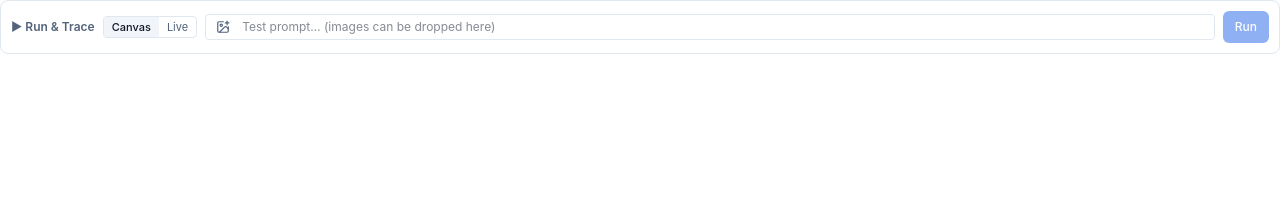
Test: FlowRunDrawer › the answer previewed on the reasoning channel is not duplicated in Thinking
Type "hi" into the field labelled "Test prompt". click: (723, 27)
box: [238,15,1208,39]
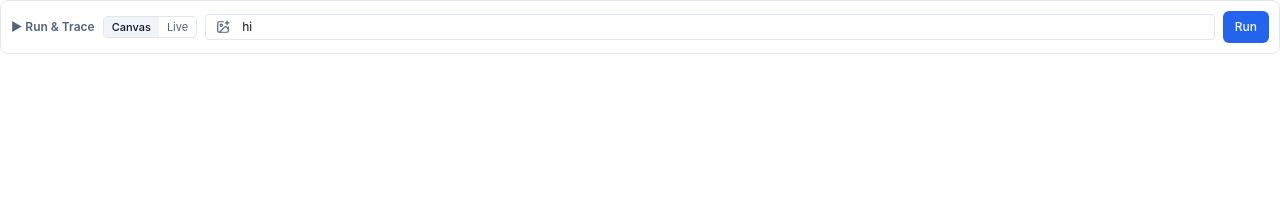
Click the button "Run". click: (1246, 27)
box: [1223,11,1269,43]
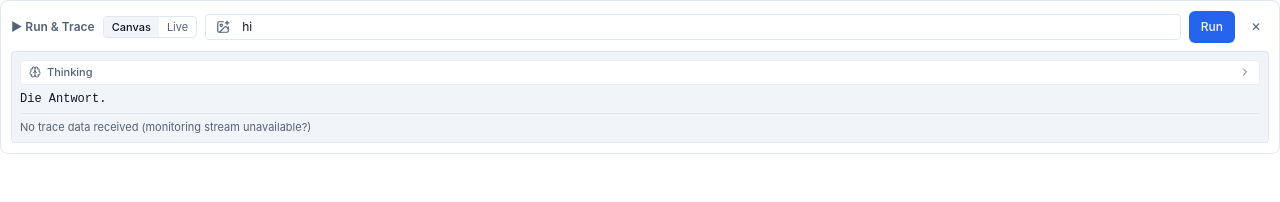
Now the text "Die Antwort." is shown, box [20,92,106,106]
Click the button "Thinking". click: (70, 72)
box: [21,61,1259,84]
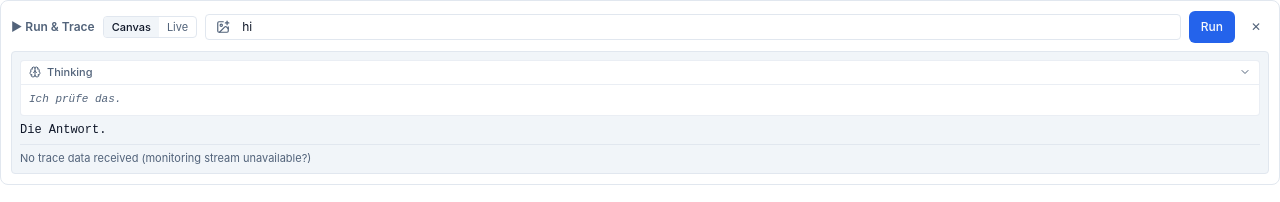
Expected: the element with test id "thinking" does not show "Die Antwort."
Now the text "Ich prüfe das." is shown, box [21,84,1259,115]
